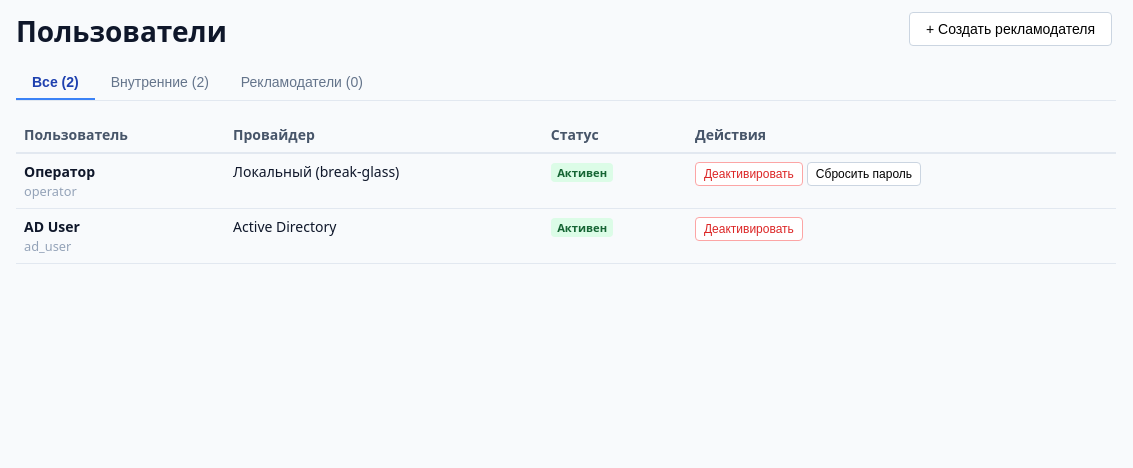
UsersPage — reset password › opens reset modal with confirm button
This screenshot has width=1133, height=468.
Click the button with test id "user-reset-password-open-u2".
click(864, 174)  # box [807, 162, 921, 186]
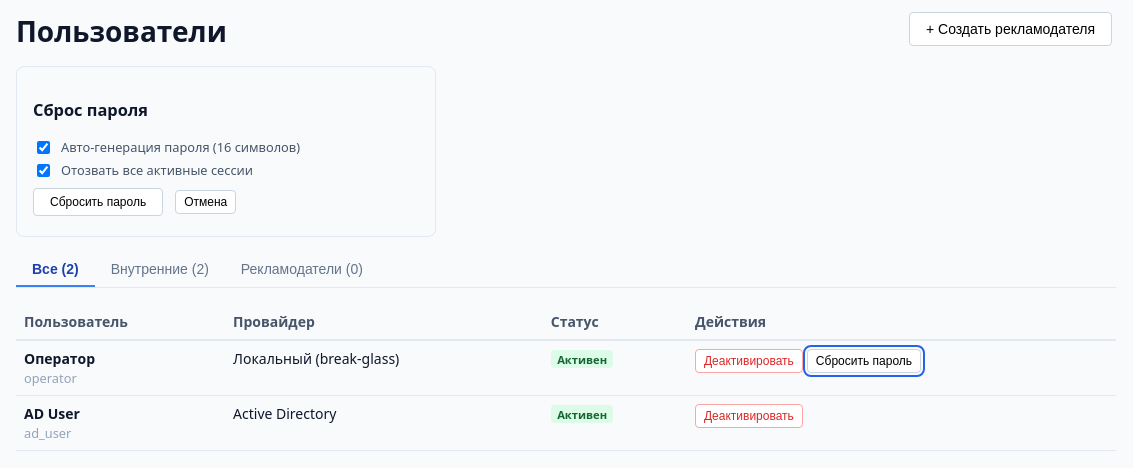
Expected: the button with test id "user-reset-password-confirm" is shown, [33, 188, 163, 216]
Expected: the heading "Сброс пароля" is shown, [33, 99, 148, 121]
